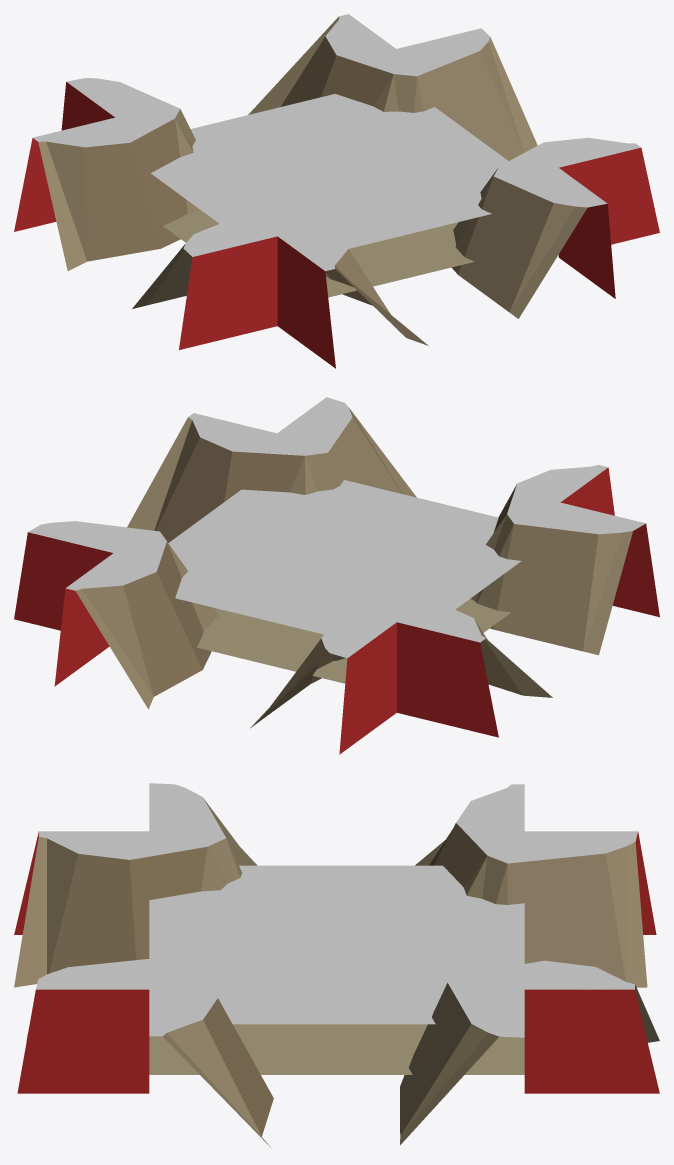
Rendered from Model_Tile_River_4W_0W.fbx.
3 views of the same model, one above another, from view 1: azimuth 30°, elevation 25°; view 2: azimuth 150°, elevation 25°; view 3: azimuth 270°, elevation 25° (orthographic). The views are drawn at different scales.
Visible parts, largest first — view 1: Model_Frost_Rivers4; view 2: Model_Frost_Rivers4; view 3: Model_Frost_Rivers4.
Boxes of the visible parts, left/top/right/bottom form: Model_Frost_Rivers4: left=14, top=14, right=659, bottom=368; Model_Frost_Rivers4: left=14, top=397, right=659, bottom=754; Model_Frost_Rivers4: left=14, top=783, right=659, bottom=1148.
Size of the model in its own units: 344 by 61.13 by 344.
